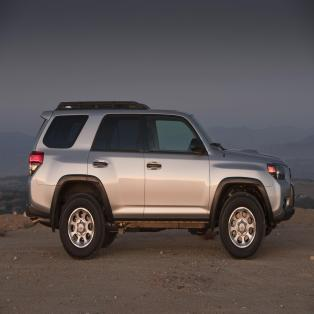Auto: (25, 100, 295, 262)
